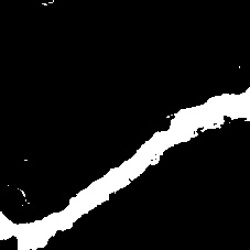crack: (2, 90, 248, 247)
